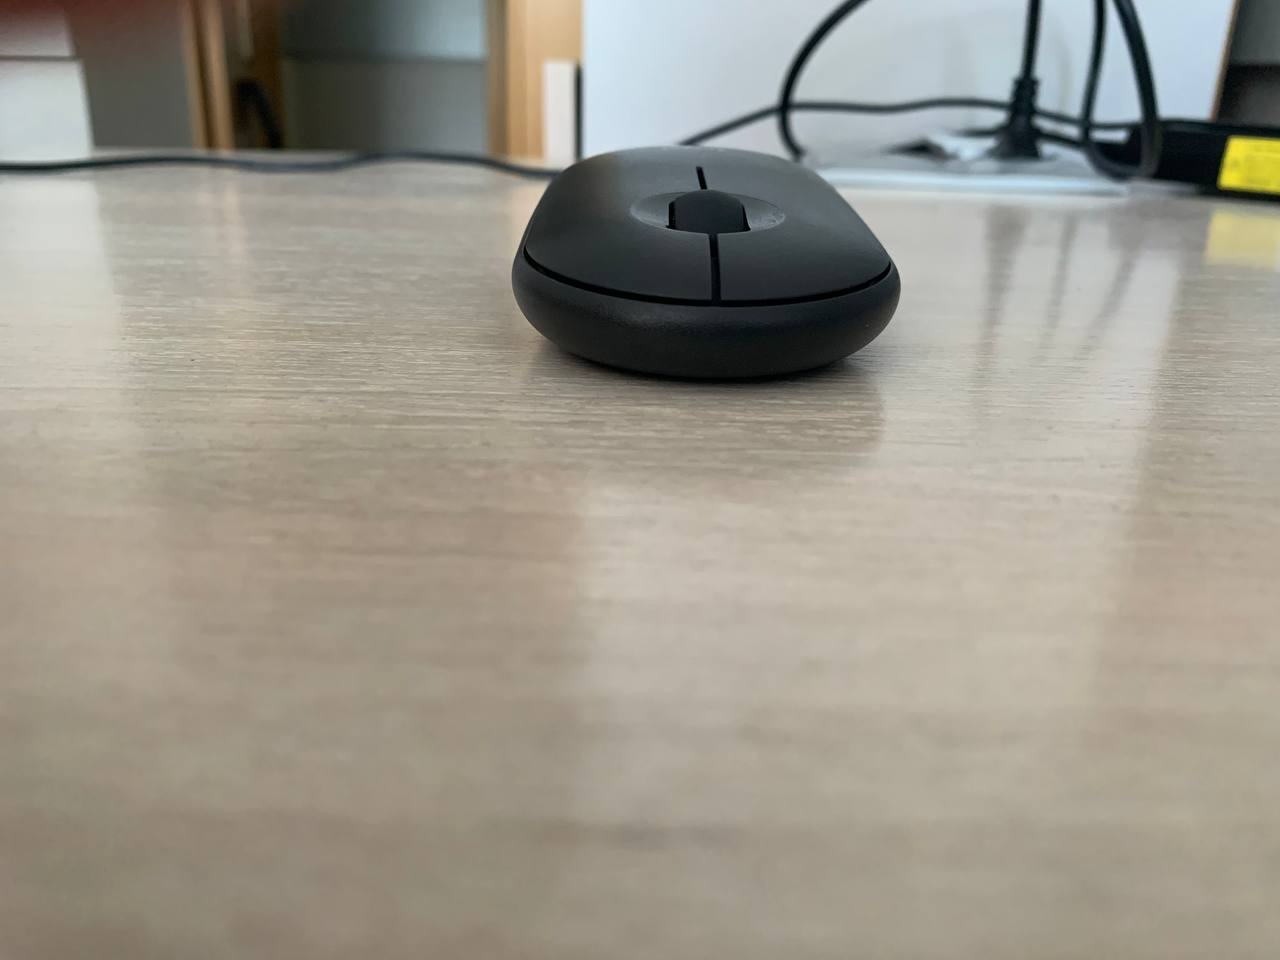mouse: (513, 147, 900, 379)
